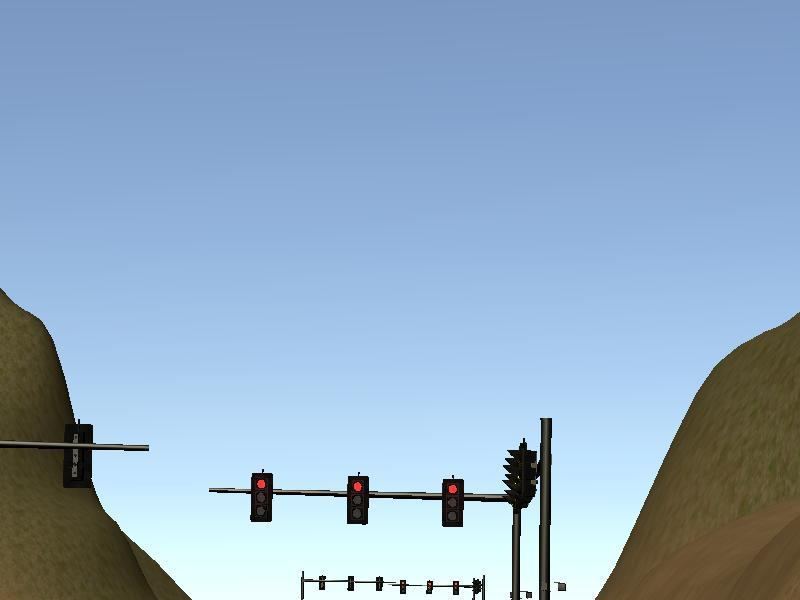Red: (441, 478, 463, 528), (250, 473, 271, 521), (347, 476, 368, 524)
